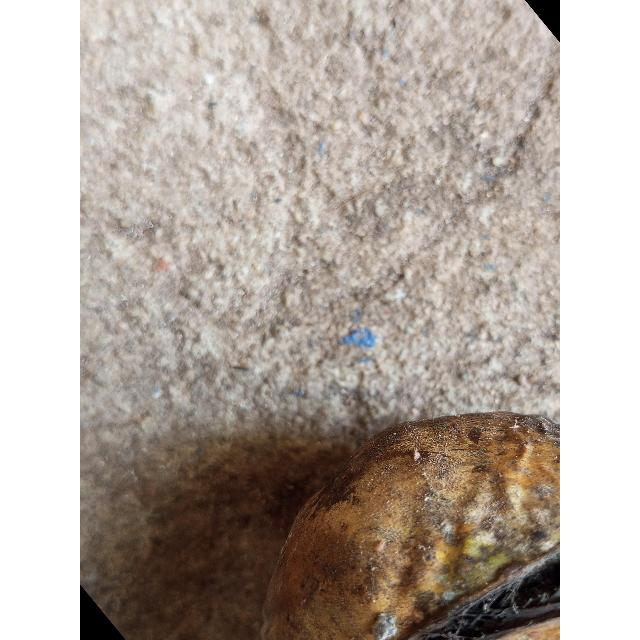damaged: (259, 413, 560, 640)
